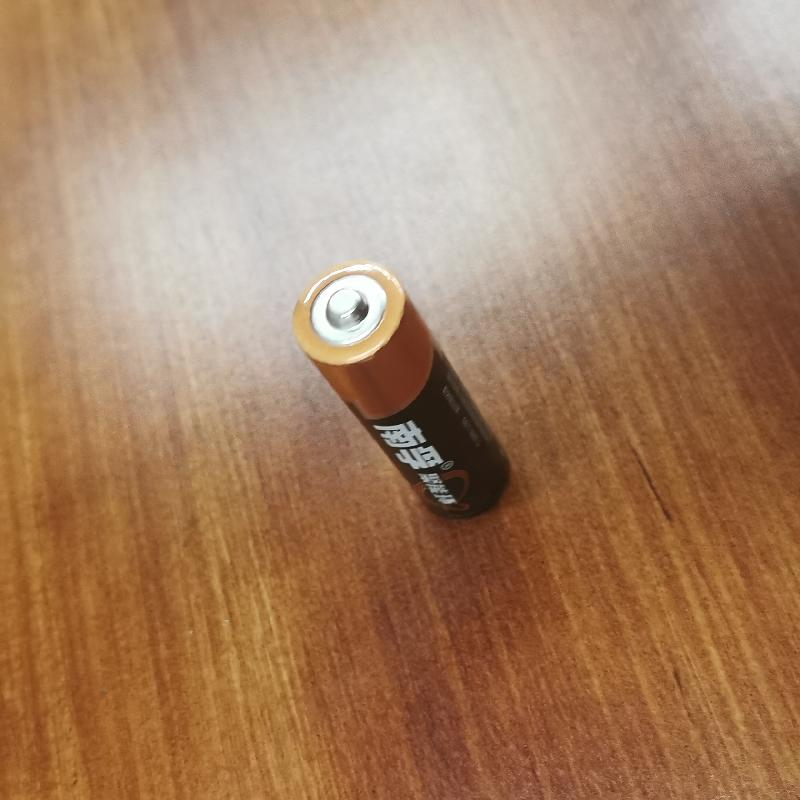battery: (288, 259, 522, 526)
